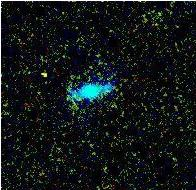star: (29, 59, 59, 89)
